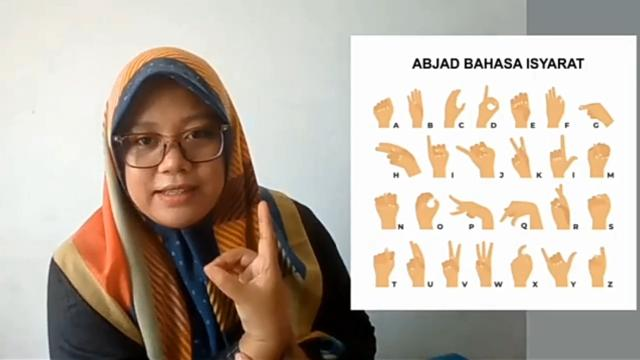D: (200, 199, 302, 343)
